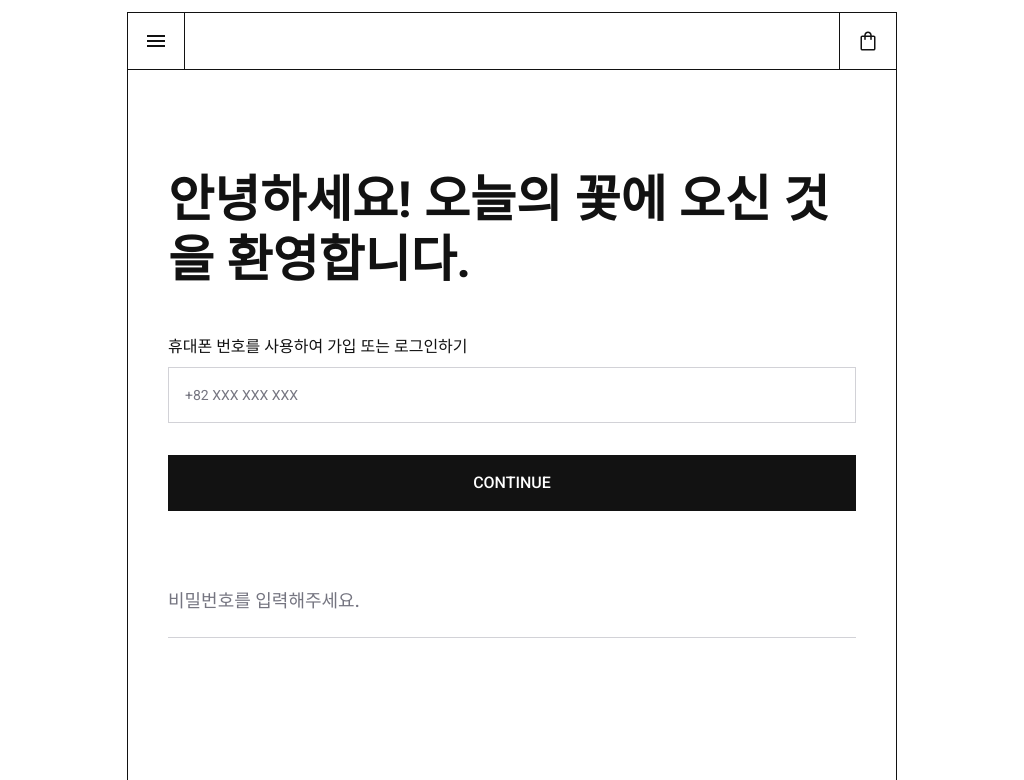
Scenario: 로그인 테스트 › 아이디가 전화번호 형식이 아닐 경우 에러 메시지가 나타난다.
The width and height of the screenshot is (1024, 780).
Type "아이디" into the field with test id "phoneInput".
click(512, 395); type("아이디")  # box [168, 367, 856, 423]
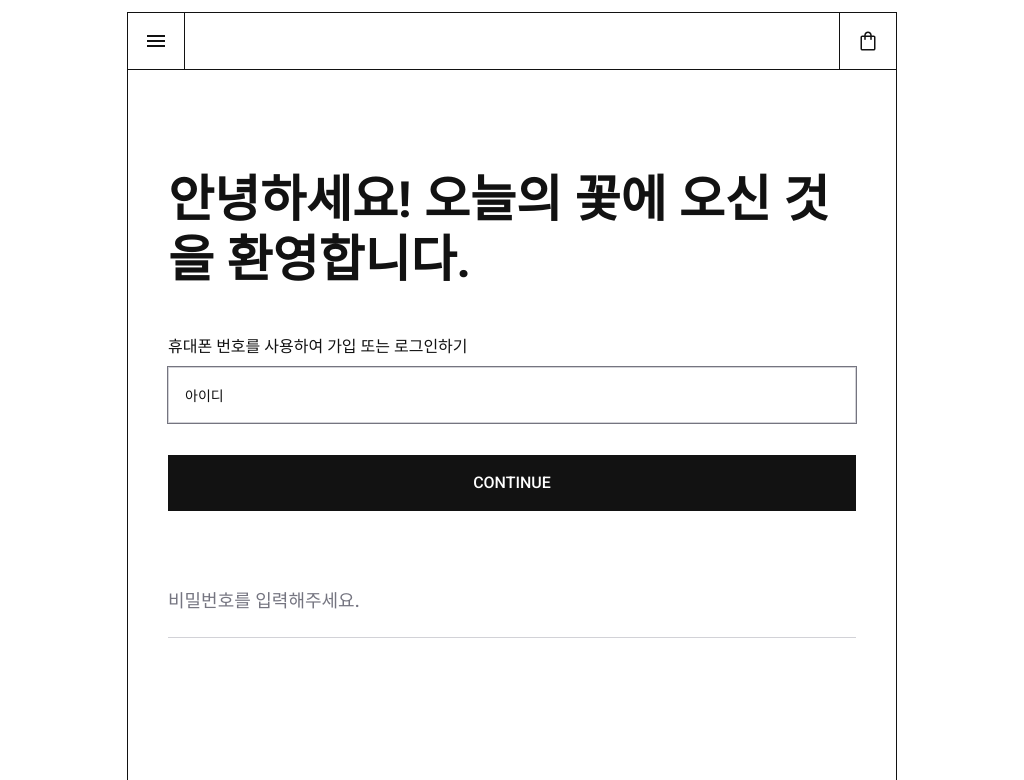
Click the button with test id "phoneBtn".
click(512, 483)  # box [168, 455, 856, 511]
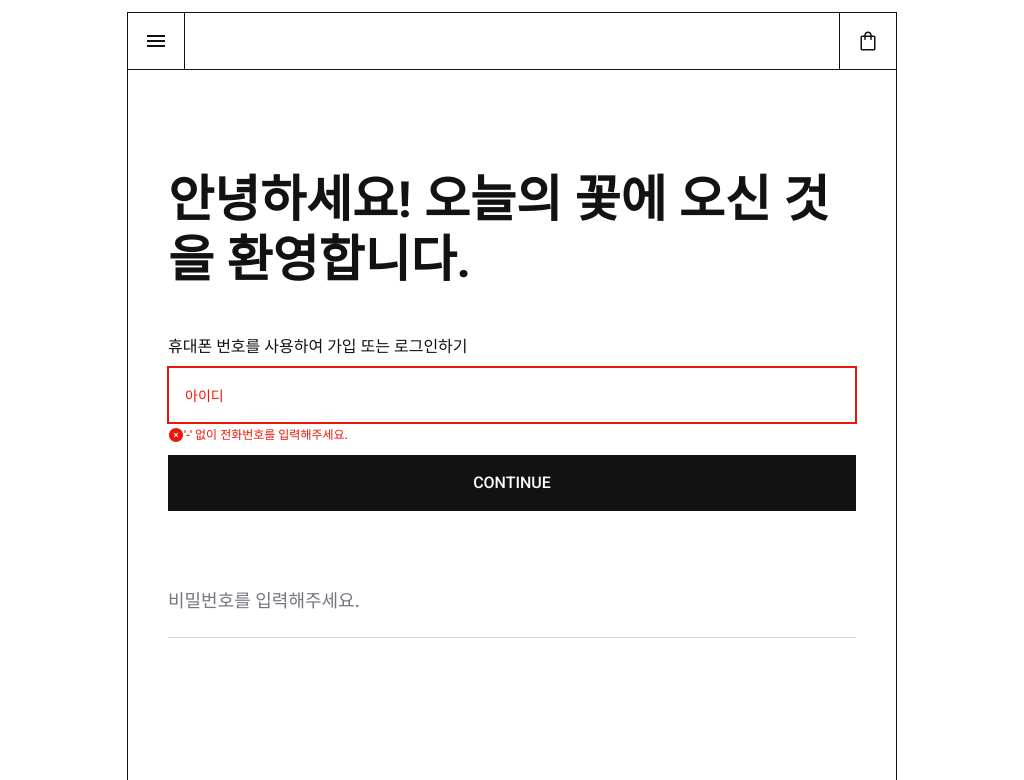
Expected: the text with test id "phoneHelp" reads "'-' 없이 전화번호를 입력해주세요.", [184, 428, 348, 442]
